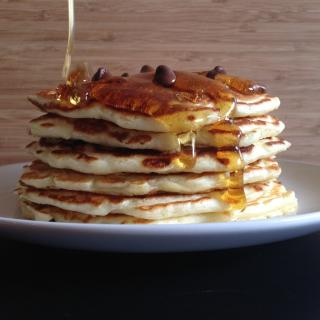Pancake: (8, 75, 304, 231), (29, 66, 276, 131)
